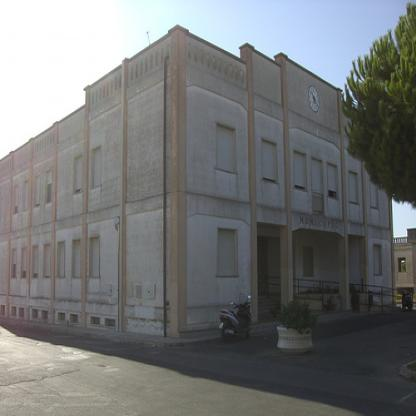motorbike: (218, 293, 252, 343)
pottedplant: (269, 301, 315, 354), (322, 295, 338, 314)
